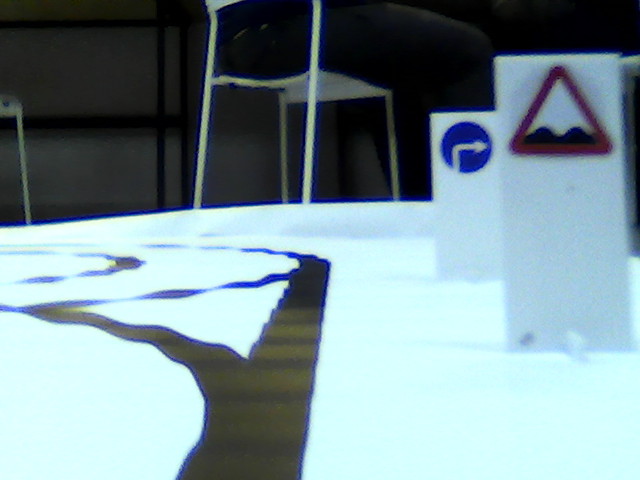Nerov: (513, 63, 615, 159)
Right: (439, 121, 492, 171)
